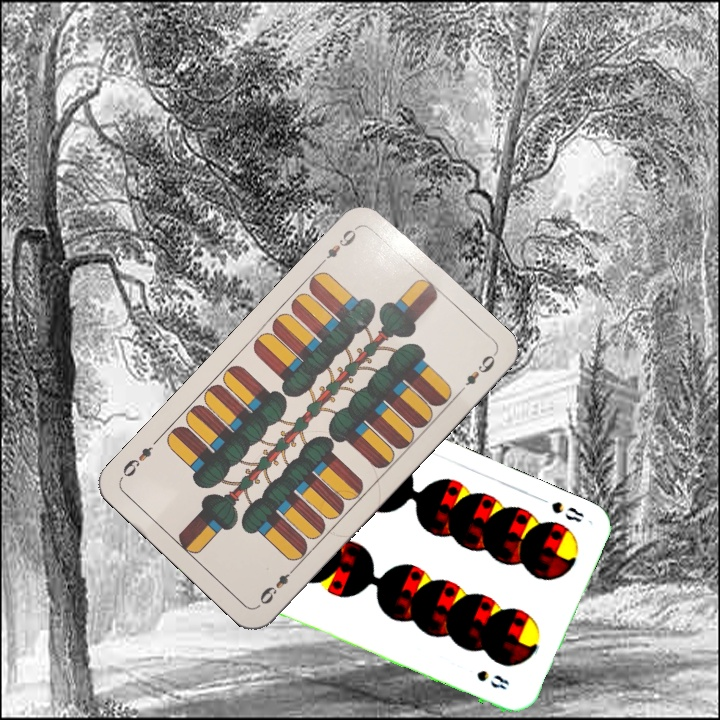E9: (315, 222, 361, 269), (255, 562, 300, 607)
S8: (532, 492, 587, 525)
